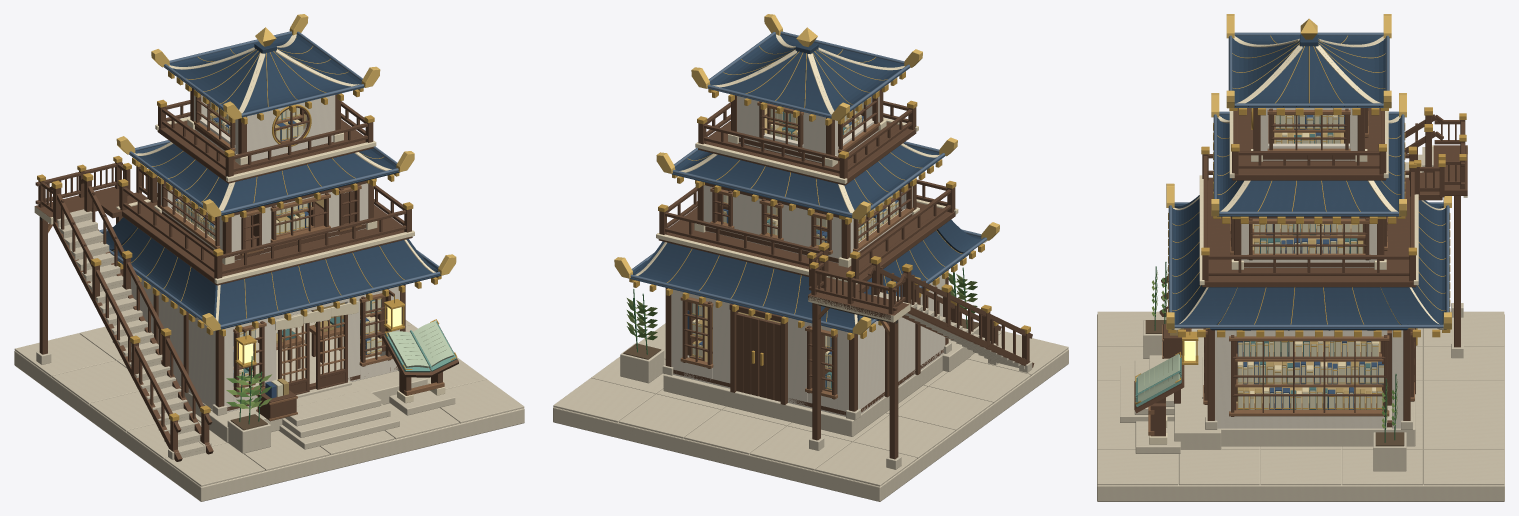
Rendered from library.glb.
3 renders of one model, left to right at view 1: azimuth 30°, elevation 25°; view 2: azimuth 150°, elevation 25°; view 3: azimuth 270°, elevation 25°, orthographic. The views are drawn at different scales.
Parts seen in each view (by area): view 1: RFbatch_0.034, RFbatch_31.034, RFbatch_52.034, RFbatch_3.034, RFbatch_42.034, RFbatch_37.034, RFbatch_7.034, RFbatch_51.034, RFbatch_5.034, RFbatch_8.034, RFbatch_30.034, RFbatch_26.034 (+28 smaller); view 2: RFbatch_0.034, RFbatch_31.034, RFbatch_52.034, RFbatch_7.034, RFbatch_42.034, RFbatch_3.034, RFbatch_37.034, RFbatch_8.034, RFbatch_26.034, RFbatch_5.034, RFbatch_19.034, RFbatch_1.034 (+20 smaller); view 3: RFbatch_0.034, RFbatch_31.034, RFbatch_42.034, RFbatch_3.034, RFbatch_37.034, RFbatch_8.034, RFbatch_5.034, RFbatch_7.034, RFbatch_14.034, RFbatch_52.034, RFbatch_26.034, RFbatch_9.034 (+38 smaller).
Part boxes in pixels (left/top/right/bottom): RFbatch_0.034: left=14, top=320, right=524, bottom=501; RFbatch_31.034: left=102, top=217, right=441, bottom=330; RFbatch_52.034: left=35, top=162, right=213, bottom=461; RFbatch_3.034: left=119, top=176, right=412, bottom=285; RFbatch_42.034: left=164, top=34, right=363, bottom=117; RFbatch_37.034: left=129, top=143, right=399, bottom=216; RFbatch_7.034: left=131, top=276, right=399, bottom=412; RFbatch_51.034: left=36, top=209, right=211, bottom=459; RFbatch_5.034: left=157, top=100, right=373, bottom=183; RFbatch_8.034: left=162, top=94, right=390, bottom=397; RFbatch_30.034: left=278, top=380, right=399, bottom=449; RFbatch_26.034: left=153, top=88, right=405, bottom=410; RFbatch_0.034: left=553, top=323, right=1068, bottom=501; RFbatch_31.034: left=629, top=219, right=984, bottom=334; RFbatch_52.034: left=808, top=250, right=1034, bottom=459; RFbatch_7.034: left=671, top=275, right=945, bottom=416; RFbatch_42.034: left=707, top=34, right=909, bottom=118; RFbatch_3.034: left=658, top=179, right=955, bottom=281; RFbatch_37.034: left=671, top=145, right=944, bottom=219; RFbatch_8.034: left=682, top=95, right=912, bottom=399; RFbatch_26.034: left=665, top=89, right=948, bottom=415; RFbatch_5.034: left=698, top=101, right=916, bottom=185; RFbatch_19.034: left=729, top=303, right=787, bottom=404; RFbatch_1.034: left=663, top=355, right=942, bottom=436; RFbatch_0.034: left=1097, top=311, right=1504, bottom=501; RFbatch_31.034: left=1172, top=195, right=1446, bottom=330; RFbatch_42.034: left=1232, top=35, right=1385, bottom=107; RFbatch_3.034: left=1202, top=154, right=1416, bottom=287; RFbatch_37.034: left=1217, top=114, right=1400, bottom=216; RFbatch_8.034: left=1204, top=108, right=1414, bottom=416; RFbatch_5.034: left=1232, top=108, right=1386, bottom=180; RFbatch_7.034: left=1215, top=330, right=1403, bottom=428; RFbatch_14.034: left=1238, top=341, right=1383, bottom=409; RFbatch_52.034: left=1159, top=114, right=1467, bottom=347; RFbatch_26.034: left=1207, top=108, right=1410, bottom=427; RFbatch_9.034: left=1203, top=110, right=1414, bottom=416.
Size of the model in its own units: 10 by 10.76 by 10.
24 materials, 8 textured.
